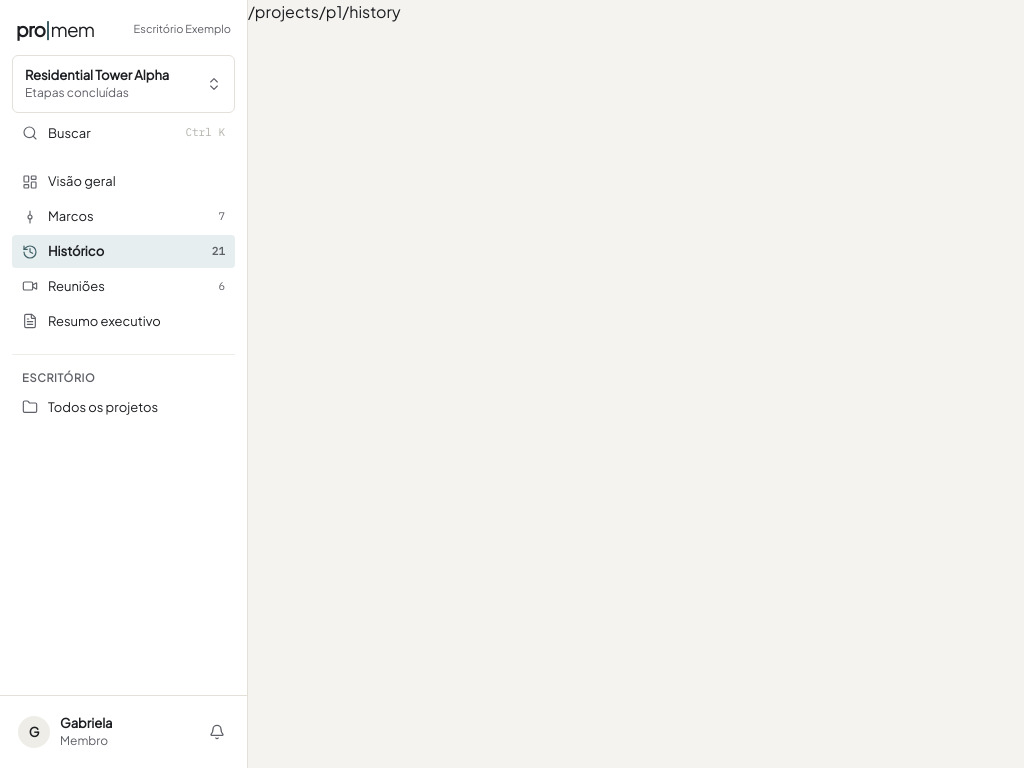
Test: Promem app shell › offers "Criar projeto" only to organization owners and admins
The image size is (1024, 768).
Click the button with aria-label "Trocar projeto" at [124, 84], box [12,55,235,113]
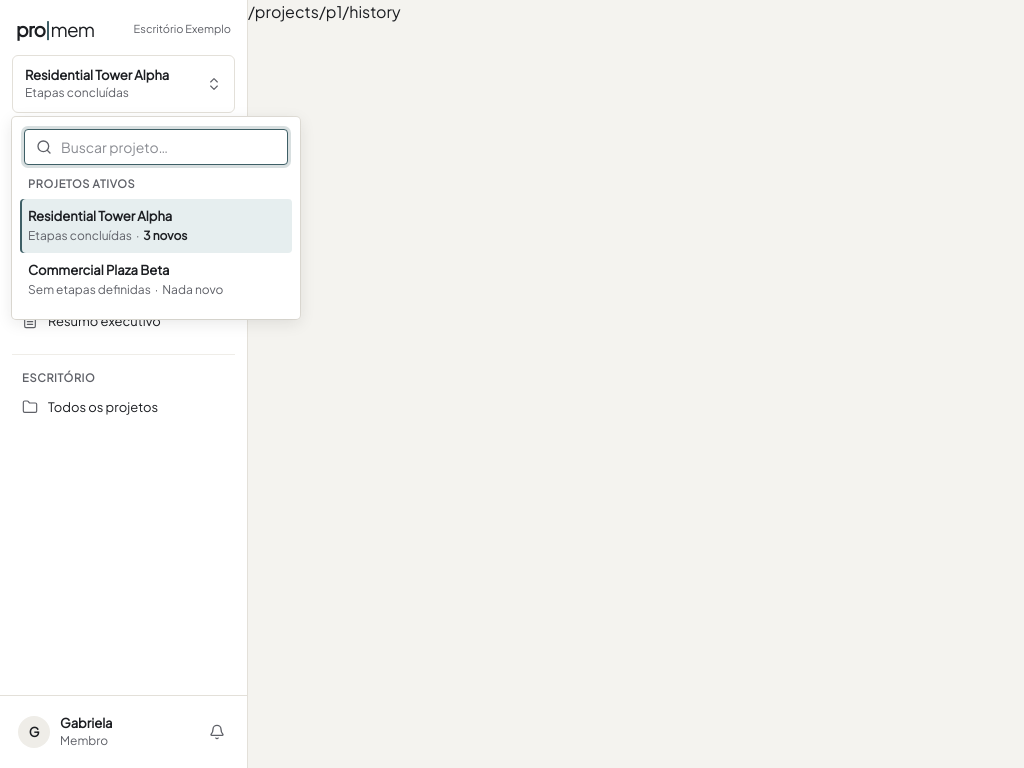
Check: the button "Commercial Plaza Beta Sem etapas definidas · Nada novo" is shown, box [20,253,292,306]
